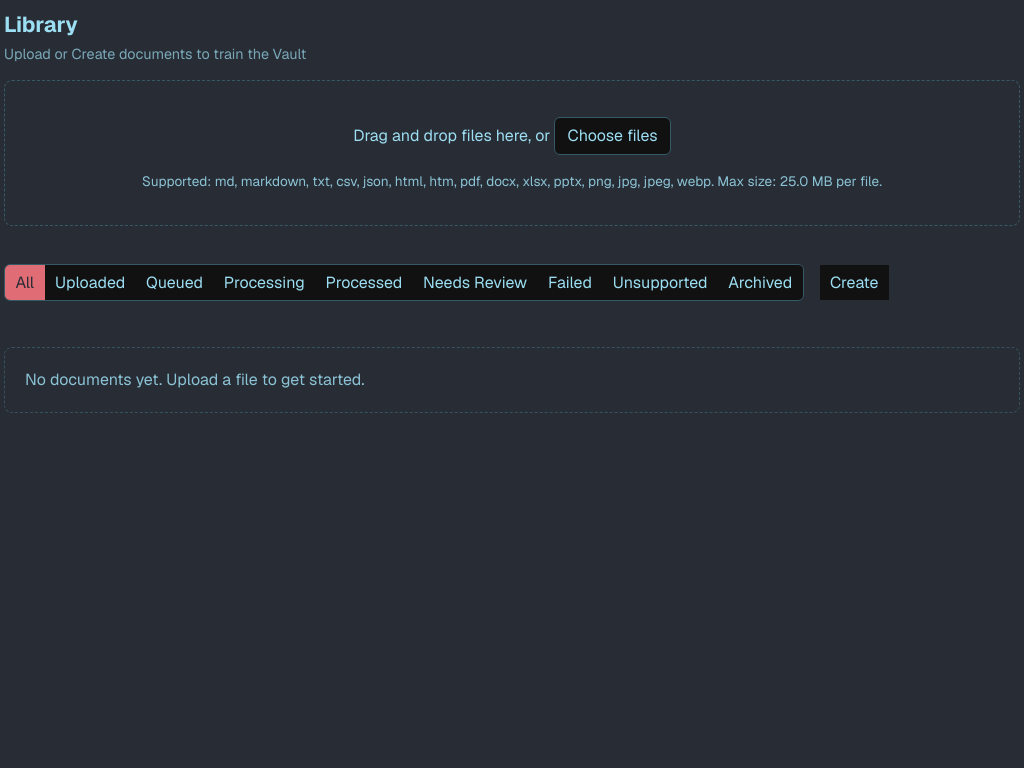
Test: Library auth and Create view › Submit Yes uploads and queues through canonical mutations
This screenshot has width=1024, height=768.
Step 1. Click the tab "Create" → (854, 283), box [820,265,889,300]
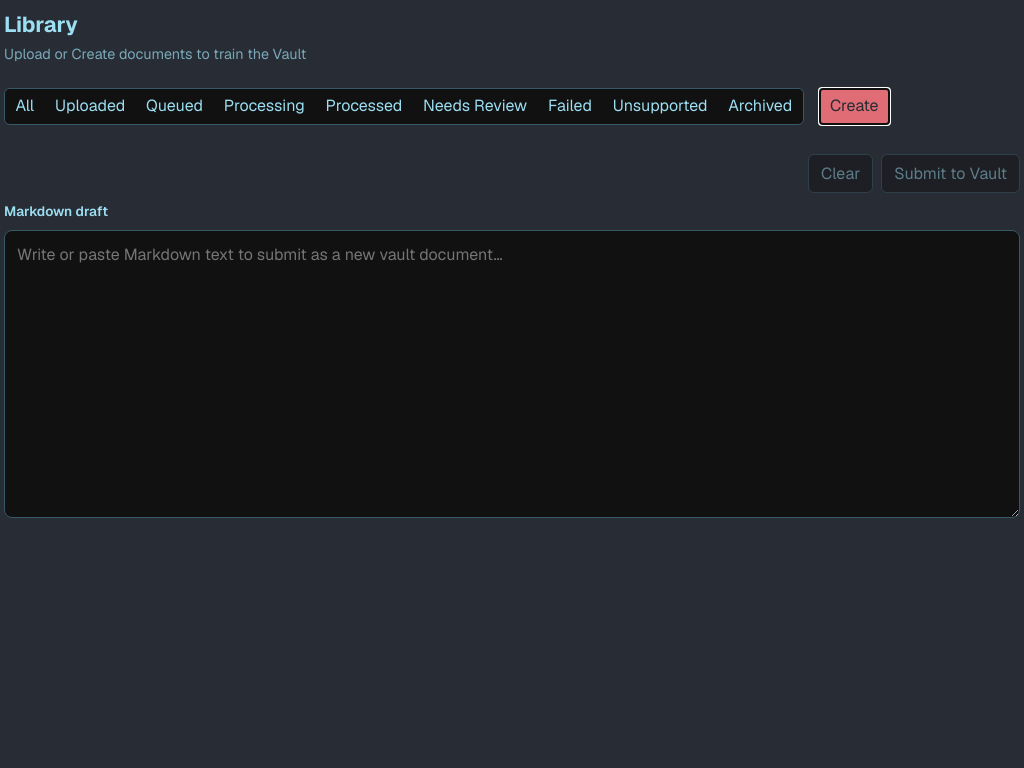
Step 2. Type "# hello" into the text box labelled "Markdown draft" → (512, 374), box [4,230,1020,518]
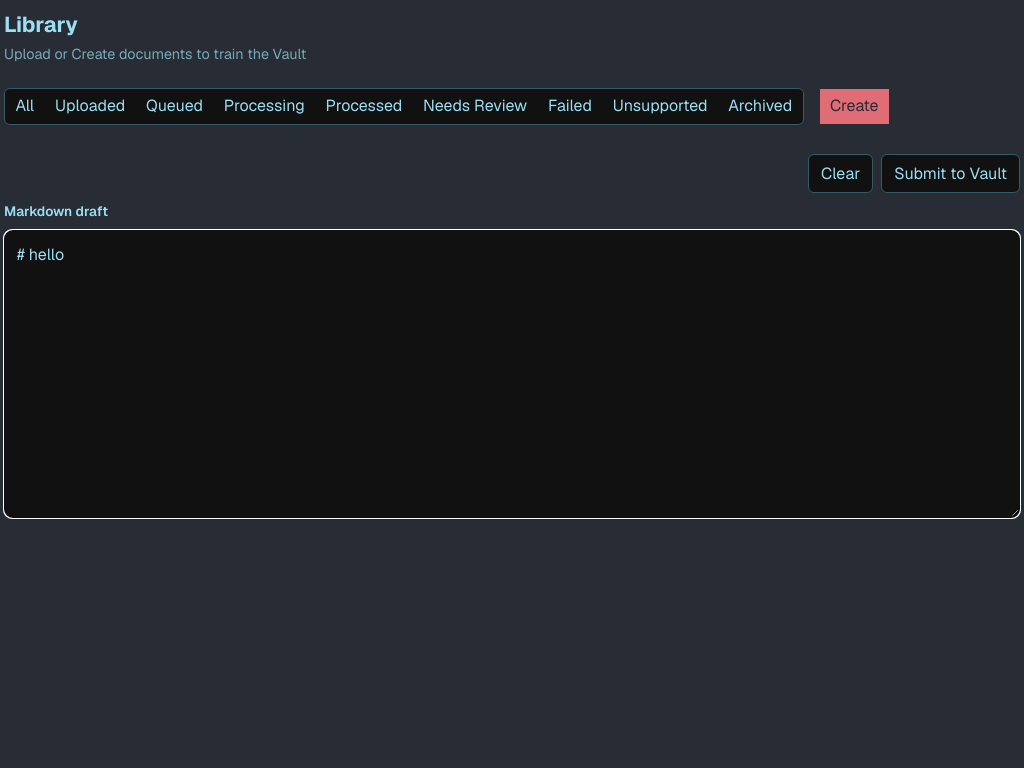
Step 3. Click the button "Submit to Vault" → (951, 174), box [881,154,1020,193]
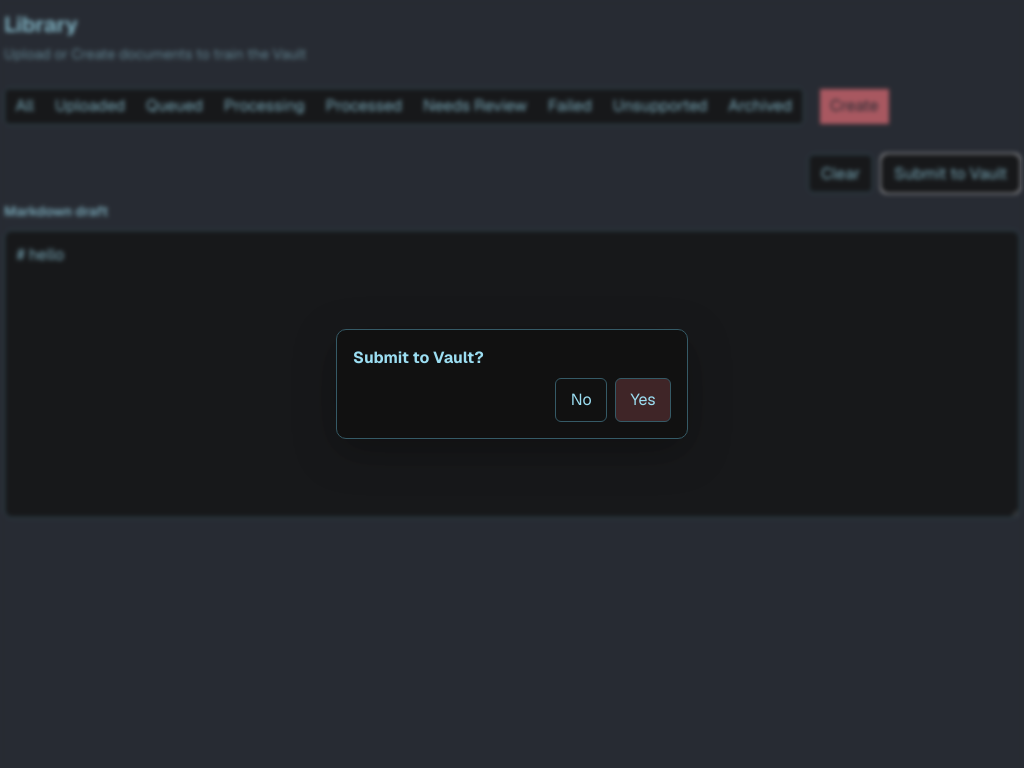
Step 4. Click the button "Yes" → (643, 400), box [615,378,671,422]
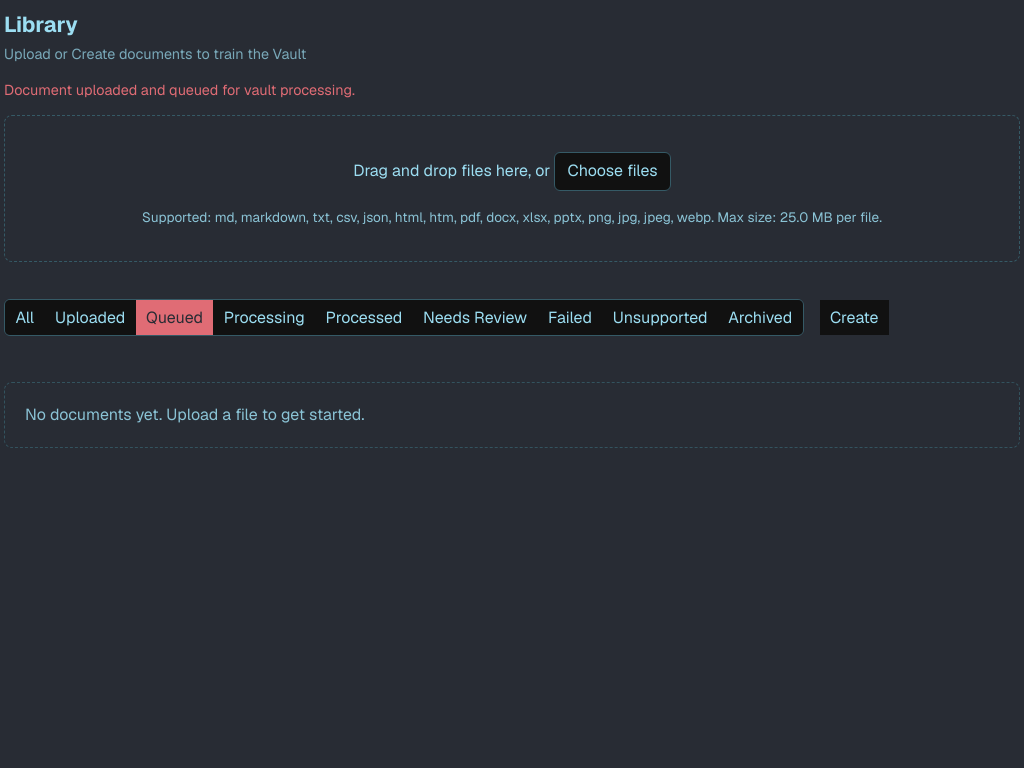
Now the text "Document uploaded and queued for vault processing." is shown, box [4,81,355,99]
